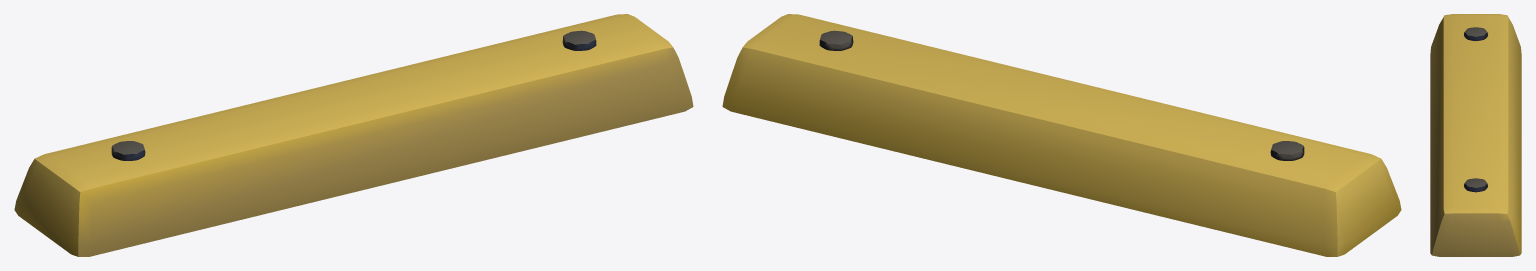
File: WheelStop.fbx
3 views of the same model, side by side, from view 1: azimuth 30°, elevation 25°; view 2: azimuth 150°, elevation 25°; view 3: azimuth 270°, elevation 25° (orthographic). The views are drawn at different scales.
Parts seen in each view (by area): view 1: SM_Prop_WheelStop; view 2: SM_Prop_WheelStop; view 3: SM_Prop_WheelStop.
Boxes of the visible parts, box(x1,y1,x2,y2) form: SM_Prop_WheelStop: box(14, 14, 693, 256); SM_Prop_WheelStop: box(722, 14, 1401, 256); SM_Prop_WheelStop: box(1430, 14, 1521, 256).
Bounding box in the file's own units: 3.57 × 0.39 × 0.6625.
